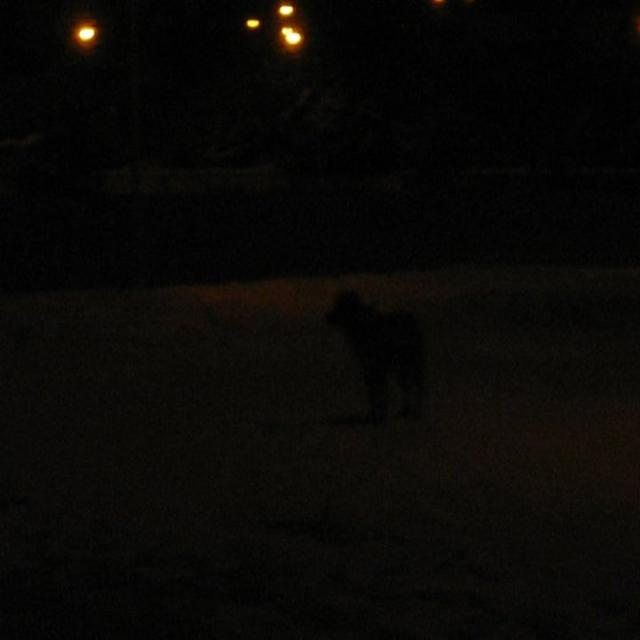dog: (315, 266, 450, 436)
